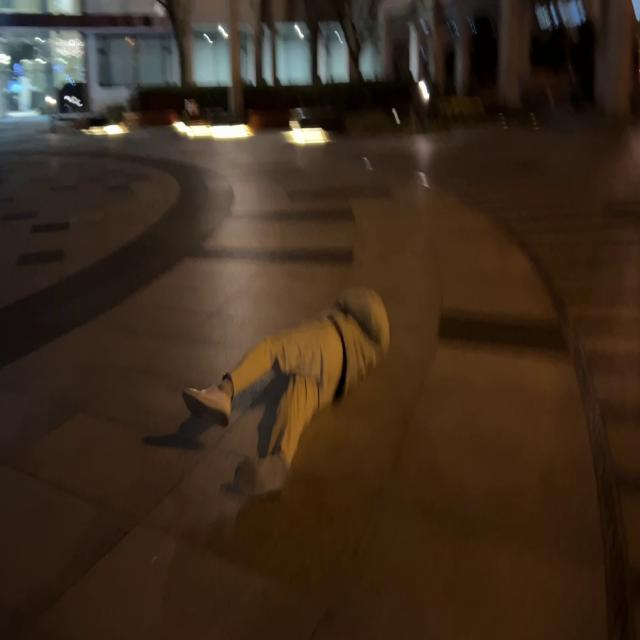Fall: (143, 289, 391, 496)
